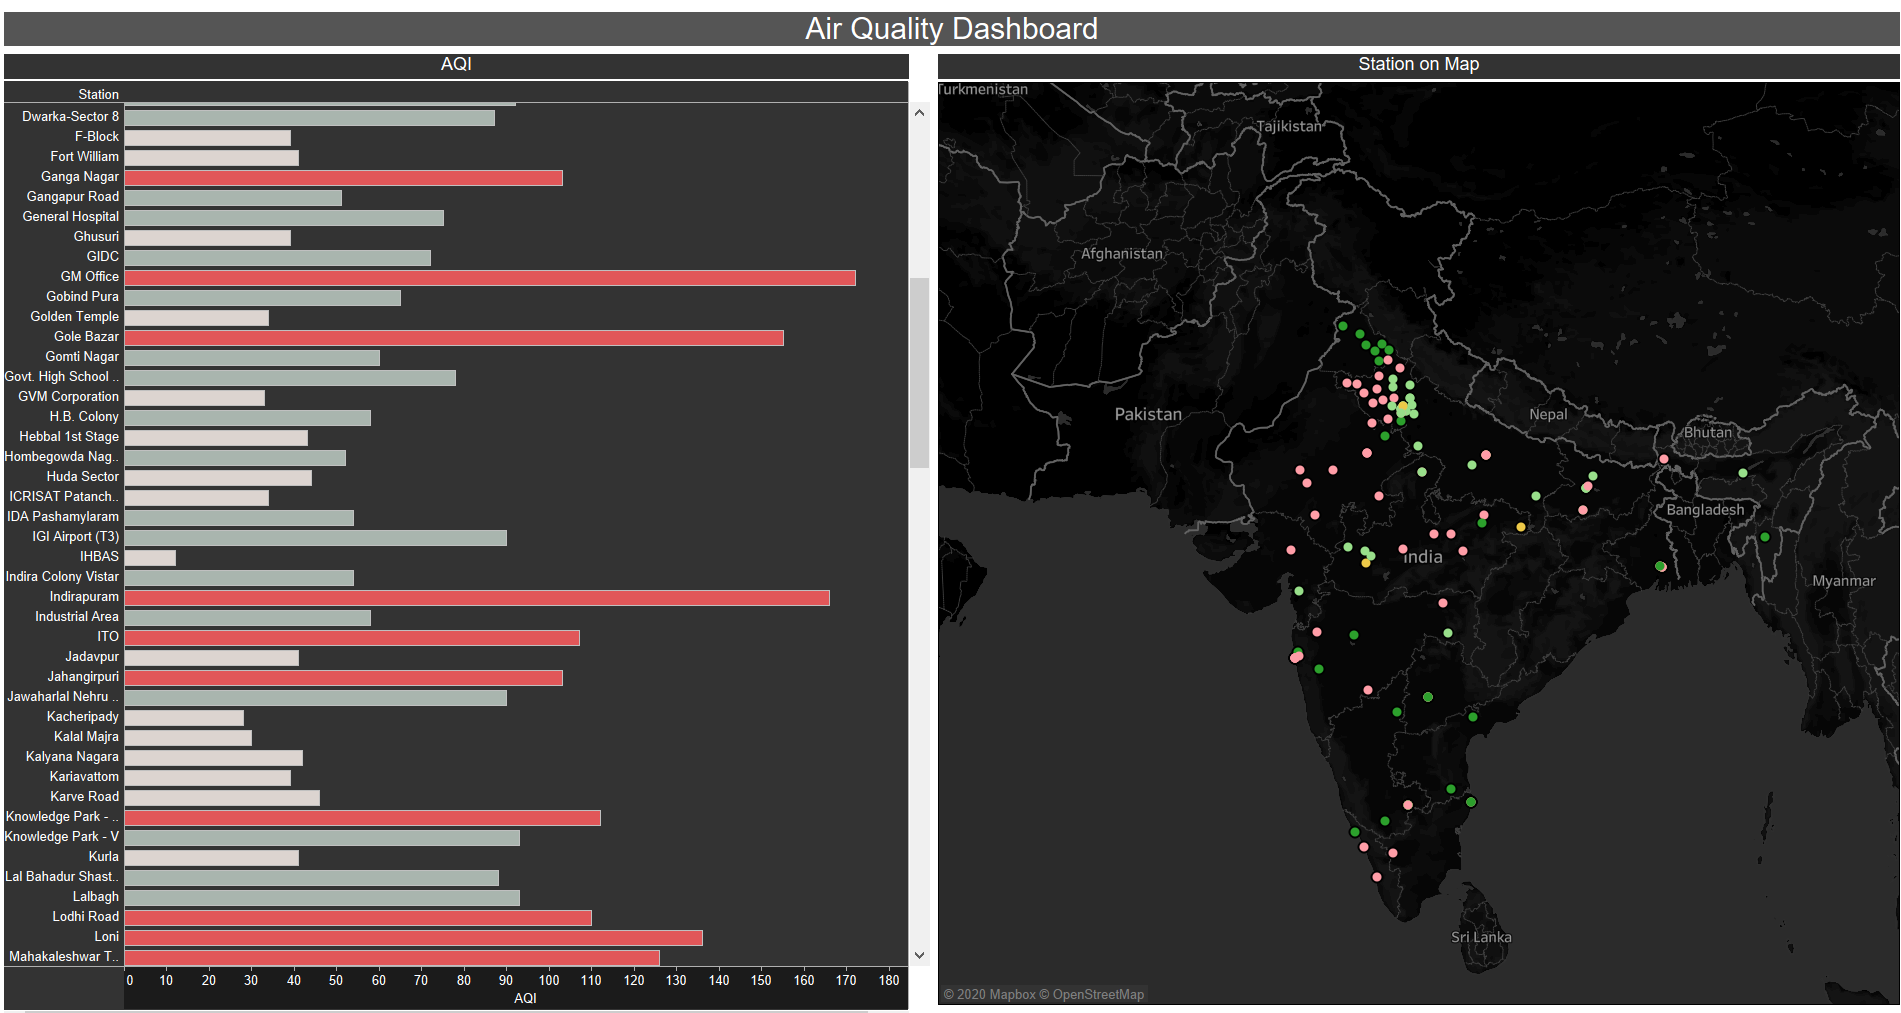

Layout of this report page (visuals, bound fields, positions):
{"tool":"tableau","page":{"name":"Dashboard 1","canvas":[1000,1000],"units":"permille","ordinal":0},"visuals":[{"type":"title","box":[4.8,9.3,990.3,49]},{"type":"worksheet","title":"Sheet 1","mark":"Automatic","rows":["F1"],"cols":["F2"],"box":[4.8,58.3,432.7,932.4]},{"type":"worksheet","title":"Sheet 3","mark":"Automatic","box":[437.5,58.3,557.6,932.4]}]}

Visuals, with their boxes on the dashboard's canvas, which has no fixed pixel size, in thousandths of its width and height (x1, y1, x2, y2). These are canvas units, not pixel positions in the 1901x1013 screenshot, which may show the page scaled, cropped or inside an application window:
title: 5,9,995,58
"Sheet 1" worksheet: 5,58,438,991
"Sheet 3" worksheet: 438,58,995,991
